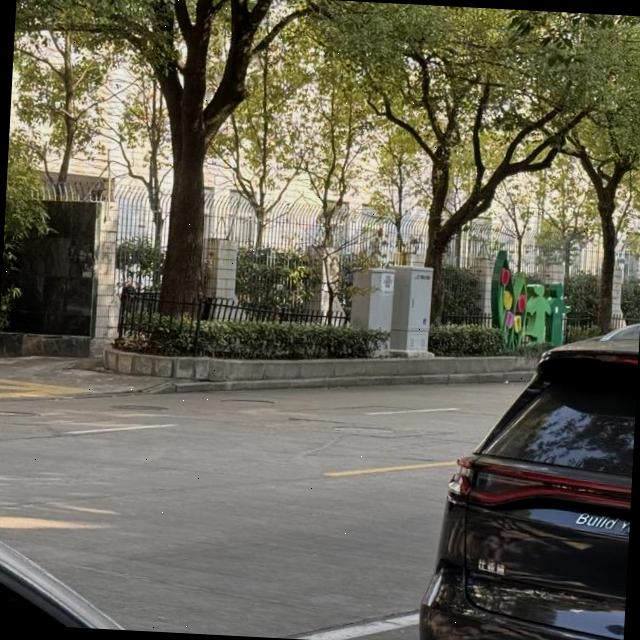curb: (103, 345, 531, 381), (157, 371, 527, 393), (0, 332, 91, 357)
